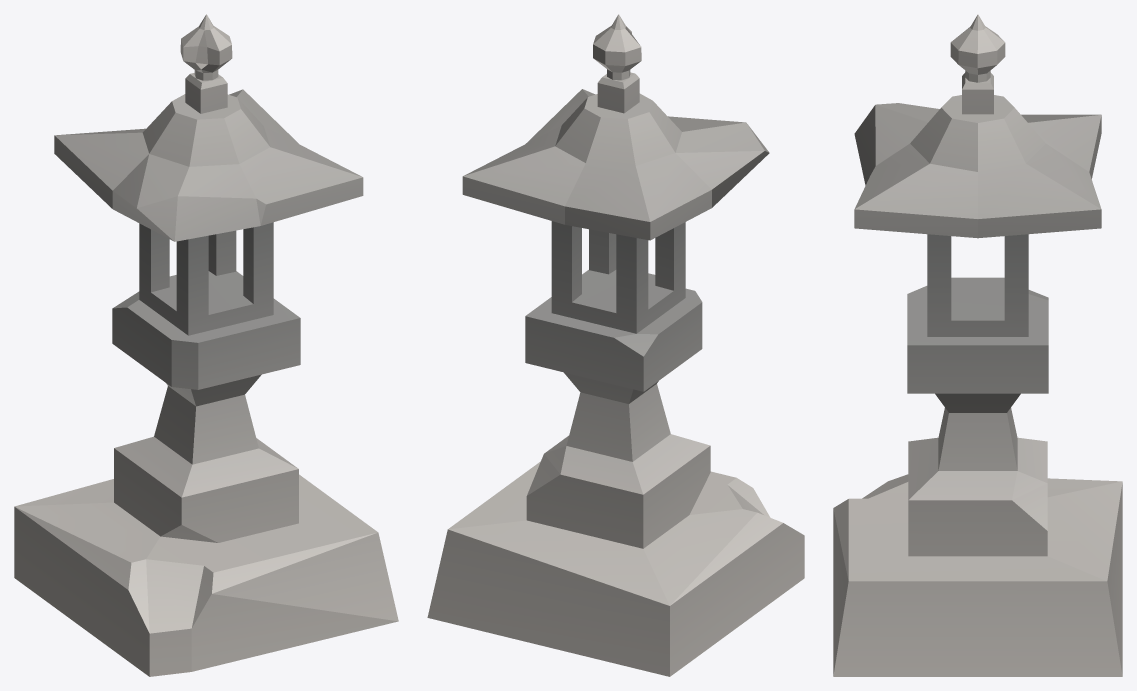
Rendered from StoneLanternSquare.fbx.
The picture shows the model from 3 angles, left to right: view 1: azimuth 30°, elevation 25°; view 2: azimuth 150°, elevation 25°; view 3: azimuth 270°, elevation 25°; orthographic projection. The views are drawn at different scales.
Visible parts, largest first — view 1: StoneLanternSquare; view 2: StoneLanternSquare; view 3: StoneLanternSquare.
Part boxes in pixels (bbox=[...]): StoneLanternSquare: bbox=[14, 14, 398, 676]; StoneLanternSquare: bbox=[427, 14, 804, 676]; StoneLanternSquare: bbox=[833, 14, 1122, 676].
Bounding box in the file's own units: 102 × 235 × 102.
